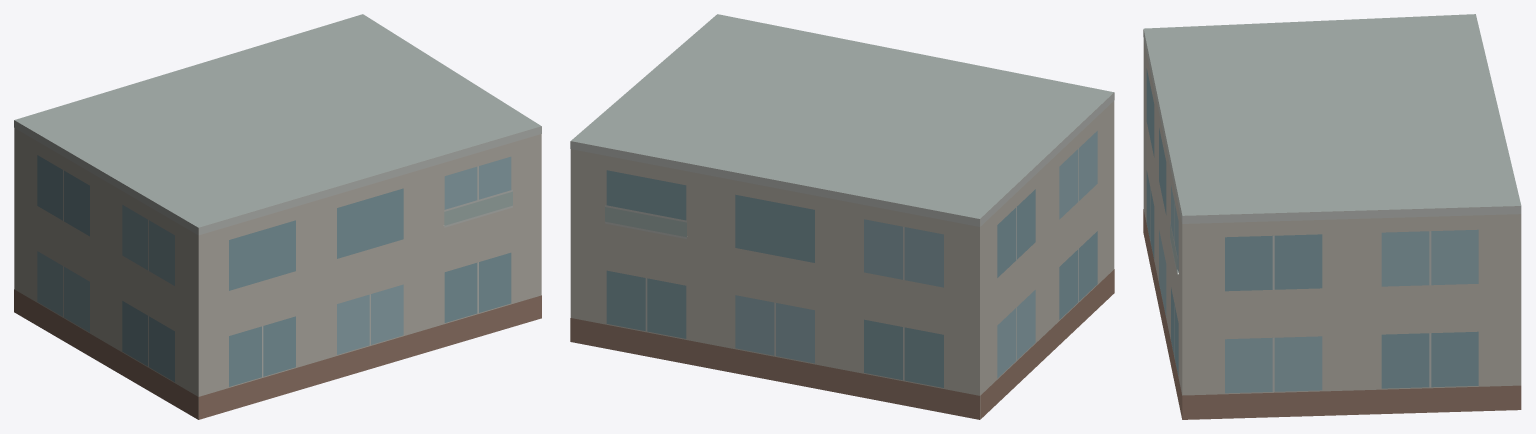
Rendered from survey-upis-32663108.glb.
3 renders of one model, left to right at view 1: azimuth 30°, elevation 25°; view 2: azimuth 150°, elevation 25°; view 3: azimuth 270°, elevation 25°, orthographic. The views are drawn at different scales.
Visible parts, largest first — view 1: survey-upis-32663108.tmp; view 2: survey-upis-32663108.tmp; view 3: survey-upis-32663108.tmp.
Part boxes in pixels (left/top/right/bottom): survey-upis-32663108.tmp: left=14, top=14, right=541, bottom=419; survey-upis-32663108.tmp: left=570, top=14, right=1114, bottom=419; survey-upis-32663108.tmp: left=1143, top=14, right=1521, bottom=419.
Bounding box in the file's own units: 12.95 × 6.1 × 10.25.
